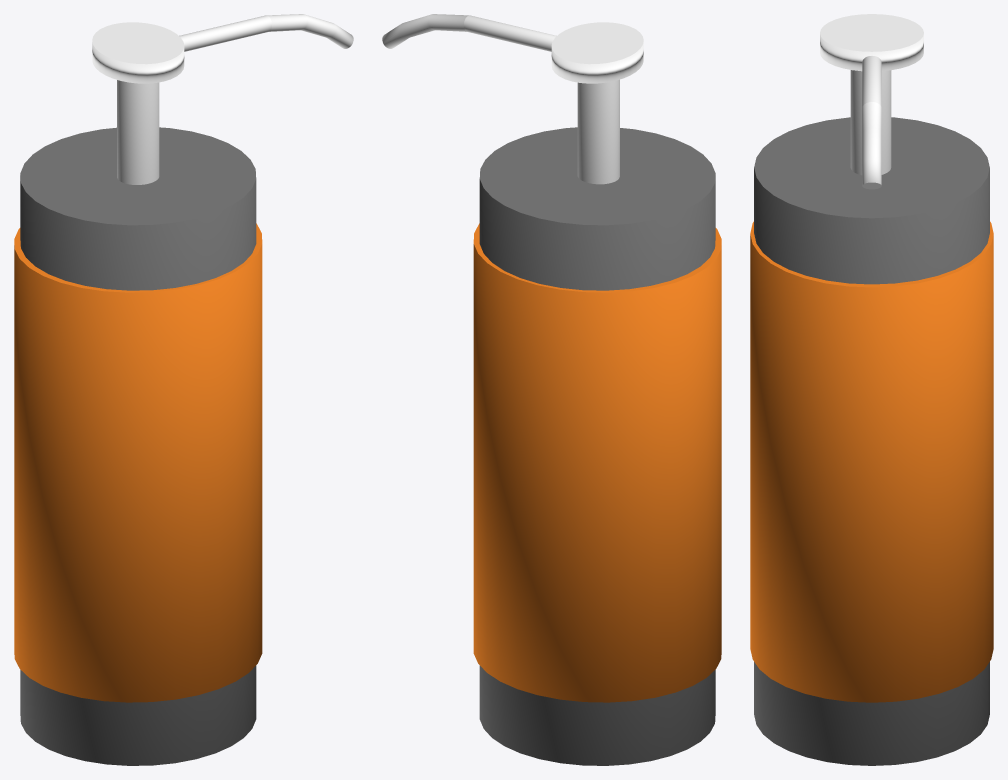
Rendered from caramel_syrup.glb.
3 views of the same model, side by side, from view 1: azimuth 30°, elevation 25°; view 2: azimuth 150°, elevation 25°; view 3: azimuth 270°, elevation 25° (orthographic).
Visible parts, largest first — view 1: Cylinder.004, Cylinder, Cylinder.002, Cylinder.001, Cylinder.003; view 2: Cylinder.004, Cylinder, Cylinder.002, Cylinder.001, Cylinder.003; view 3: Cylinder.004, Cylinder, Cylinder.002, Cylinder.003, Cylinder.001.
Boxes of the visible parts, x1,y1,x2,y2 form: Cylinder.004: (14, 223, 262, 702); Cylinder: (20, 127, 256, 765); Cylinder.002: (92, 22, 184, 83); Cylinder.001: (117, 80, 159, 184); Cylinder.003: (179, 14, 353, 51); Cylinder.004: (473, 223, 721, 702); Cylinder: (479, 127, 715, 765); Cylinder.002: (551, 22, 643, 83); Cylinder.001: (577, 79, 619, 184); Cylinder.003: (382, 14, 556, 51); Cylinder.004: (750, 221, 993, 702); Cylinder: (754, 117, 989, 765); Cylinder.002: (820, 14, 923, 71); Cylinder.003: (862, 56, 881, 189); Cylinder.001: (850, 70, 891, 175).
Size of the model in its own units: 0.673 by 1.34 by 0.4344.
